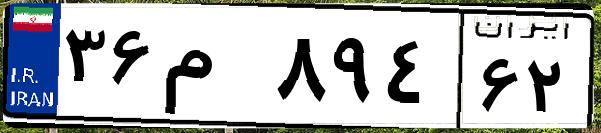2: (525, 38, 570, 115)
3: (57, 26, 110, 100)
4: (385, 28, 445, 110)
6: (475, 38, 525, 113), (110, 28, 158, 98)
8: (270, 28, 330, 110)
9: (330, 28, 385, 110)
م: (158, 20, 270, 120)
